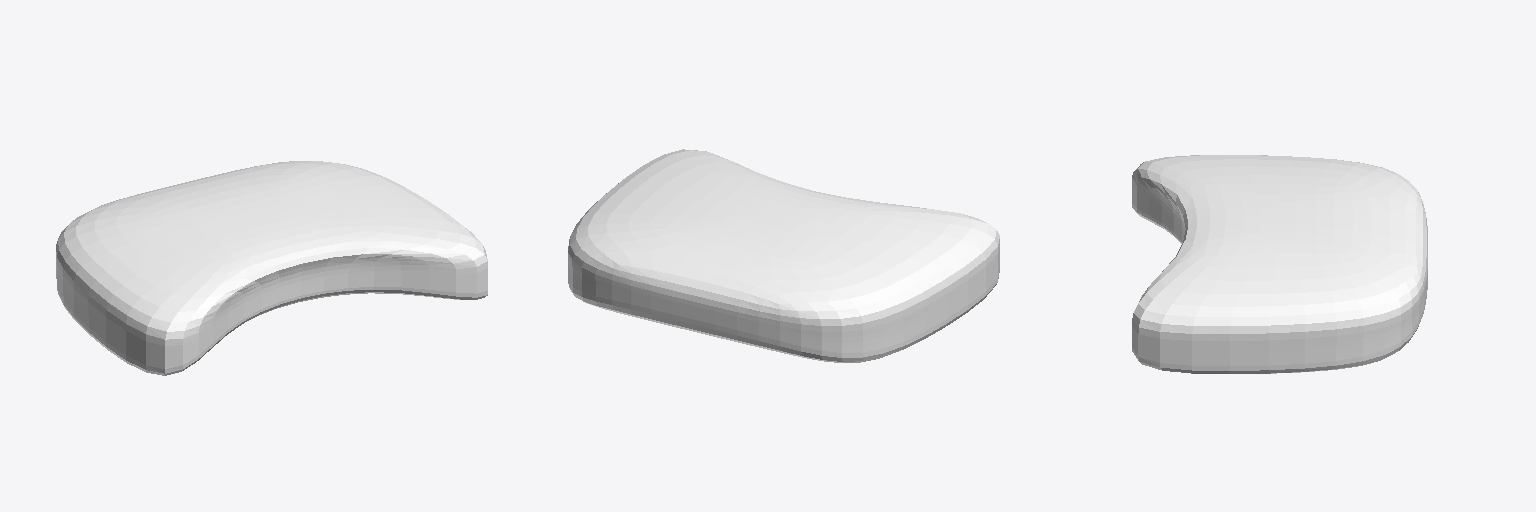
File: case.obj
3 views of the same model, side by side, from view 1: azimuth 30°, elevation 25°; view 2: azimuth 150°, elevation 25°; view 3: azimuth 270°, elevation 25° (orthographic).
Parts seen in each view (by area): view 1: Cube; view 2: Cube; view 3: Cube.
Part boxes in pixels (bbox=[...]): Cube: bbox=[56, 161, 487, 375]; Cube: bbox=[568, 149, 999, 362]; Cube: bbox=[1132, 155, 1427, 373].
Bounding box in the file's own units: 129 × 27.02 × 94.86.